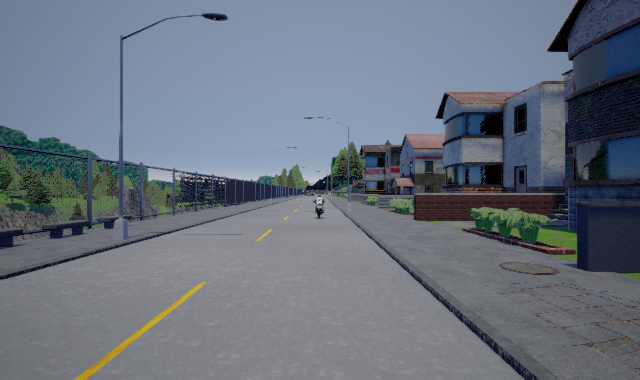motobike: (313, 195, 325, 219)
